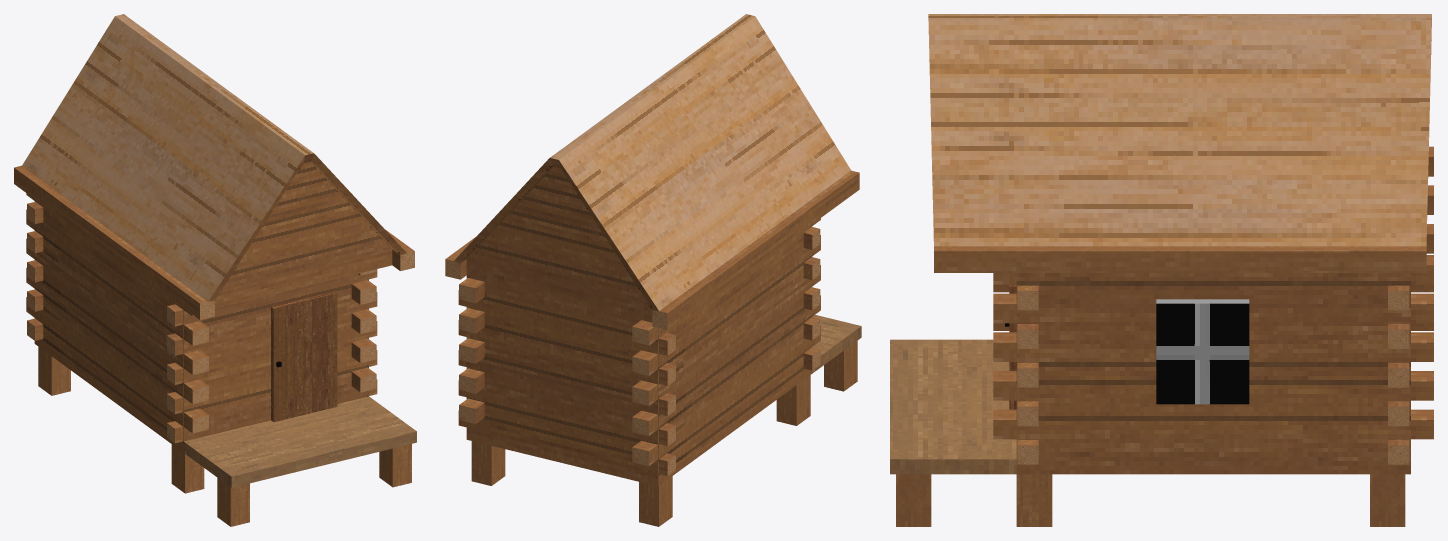
Rendered from forestHouse.glb.
3 views of the same model, side by side, from view 1: azimuth 30°, elevation 25°; view 2: azimuth 150°, elevation 25°; view 3: azimuth 270°, elevation 25° (orthographic). The views are drawn at different scales.
Parts seen in each view (by area): view 1: Cube; view 2: Cube; view 3: Cube.
Boxes of the visible parts, x1,y1,x2,y2 form: Cube: (14, 14, 416, 526); Cube: (445, 14, 861, 526); Cube: (890, 14, 1433, 526).
Size of what is drawn, in the model's own units: 3.08 by 4.68 by 5.1.
1 material, 1 textured.
